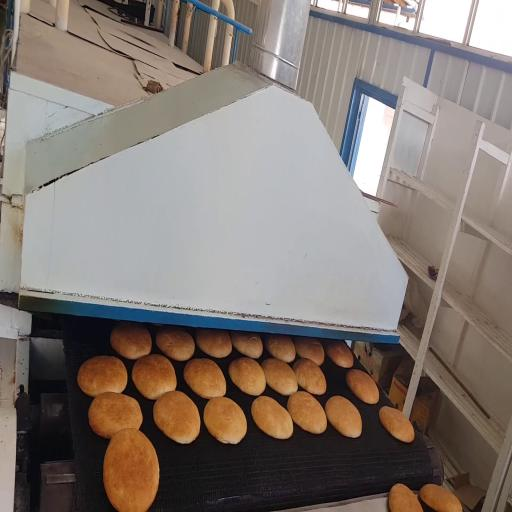bread: (103, 429, 159, 511), (88, 392, 142, 438), (154, 391, 200, 444), (132, 355, 176, 400), (204, 397, 246, 444), (78, 356, 127, 396), (251, 396, 293, 439), (287, 391, 327, 434), (184, 359, 226, 398), (325, 396, 362, 438), (111, 323, 151, 359), (229, 357, 266, 395), (156, 326, 194, 361), (262, 358, 297, 395), (379, 406, 414, 442), (293, 358, 326, 394), (346, 370, 379, 404), (419, 485, 462, 511), (196, 329, 231, 358), (389, 484, 422, 511), (294, 338, 324, 365), (231, 332, 262, 358), (266, 335, 295, 362), (326, 341, 353, 368)
